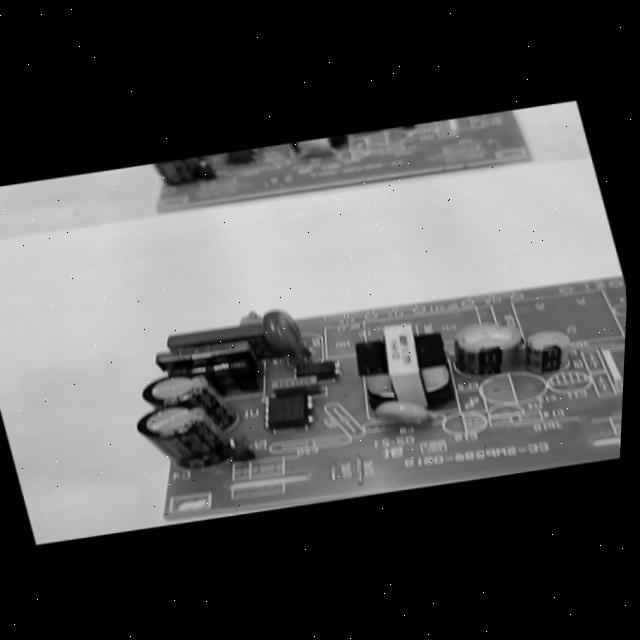Cap1: (442, 310, 538, 383)
Cap2: (518, 322, 584, 378)
Cap3: (134, 367, 237, 410)
Cap4: (122, 395, 244, 477)
MOSFET: (255, 390, 321, 432)
Mov: (258, 303, 311, 362)
Resistor: (235, 307, 268, 329)
Transformer: (339, 313, 464, 416), (145, 333, 265, 400)
